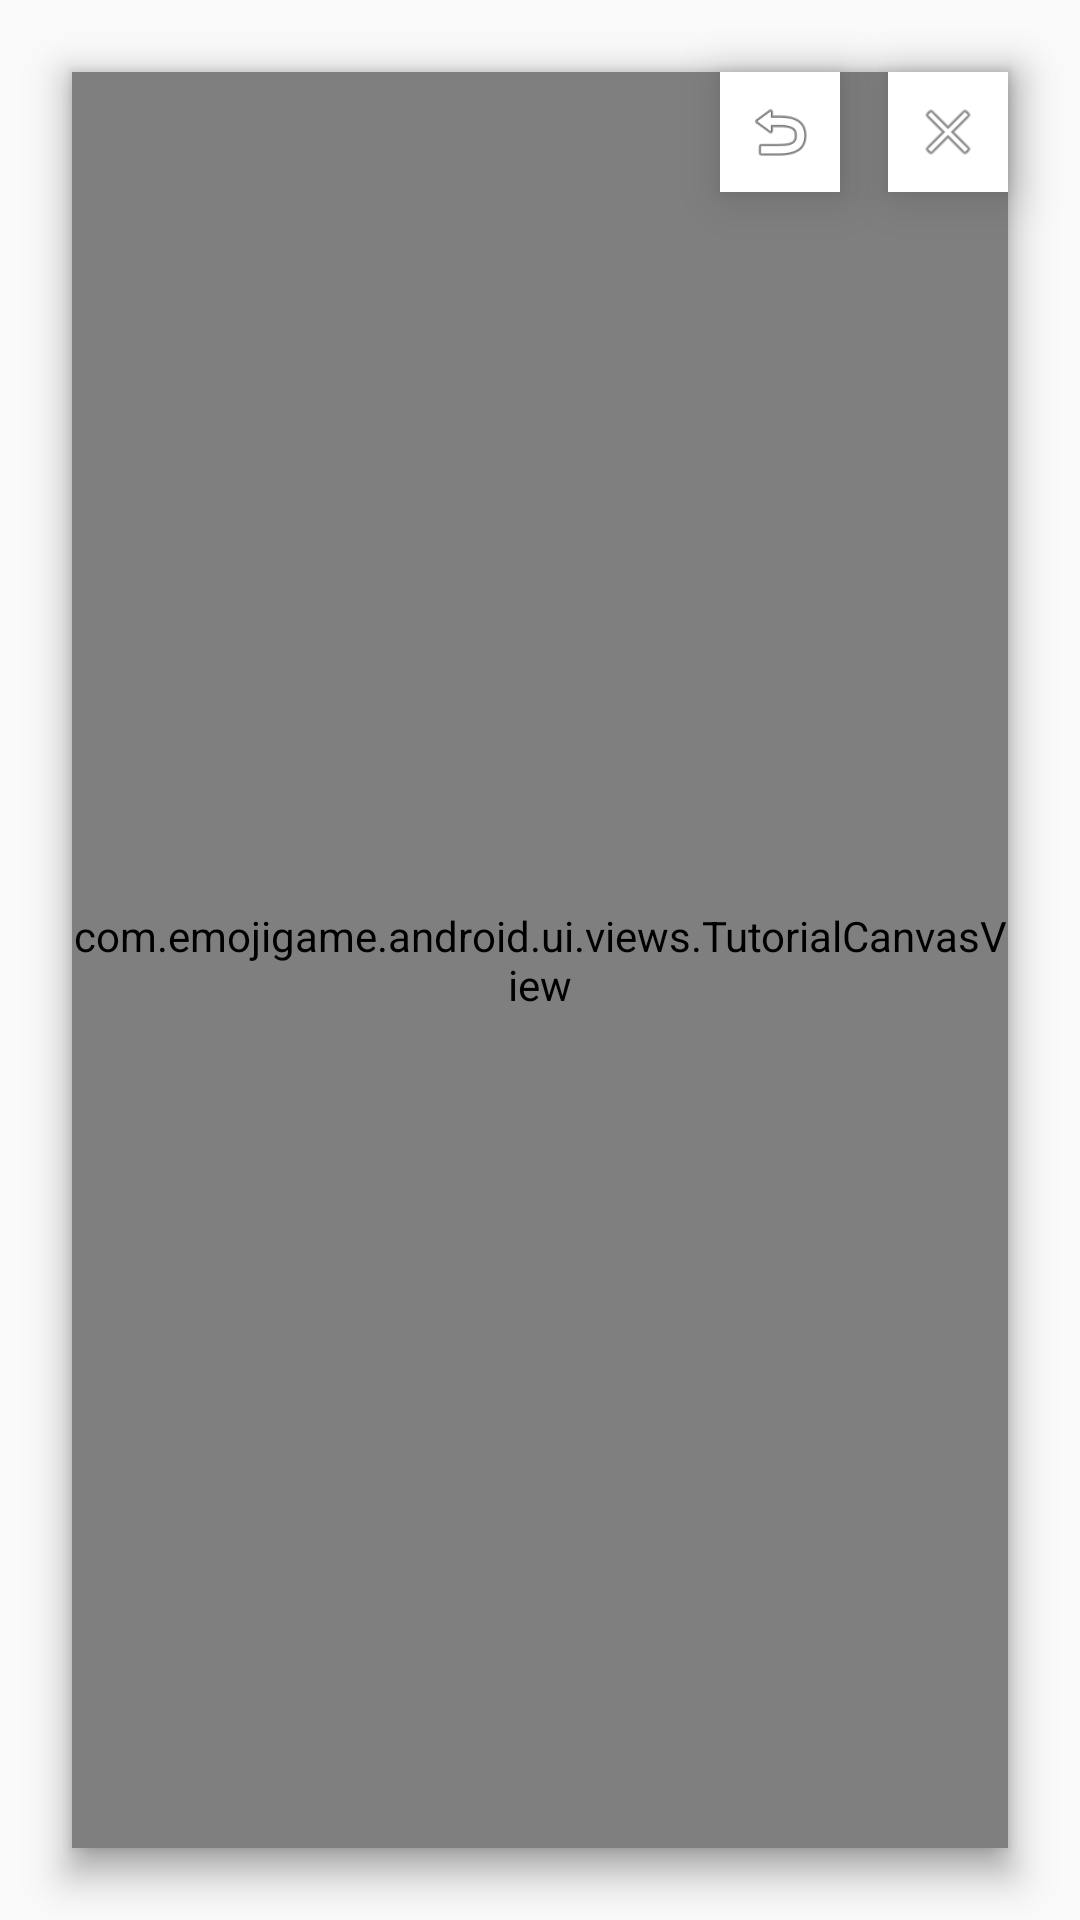

Where to tap for icons on this 1080w x 1920h app screen, as (x=x, y=y):
close: (x=948, y=132)
Reset Tutorial: (x=780, y=132)
